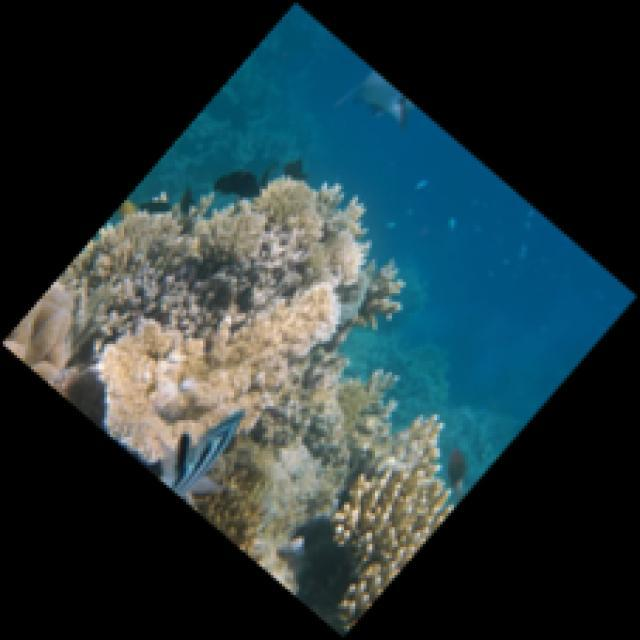Dead Coral: (196, 436, 301, 544)
